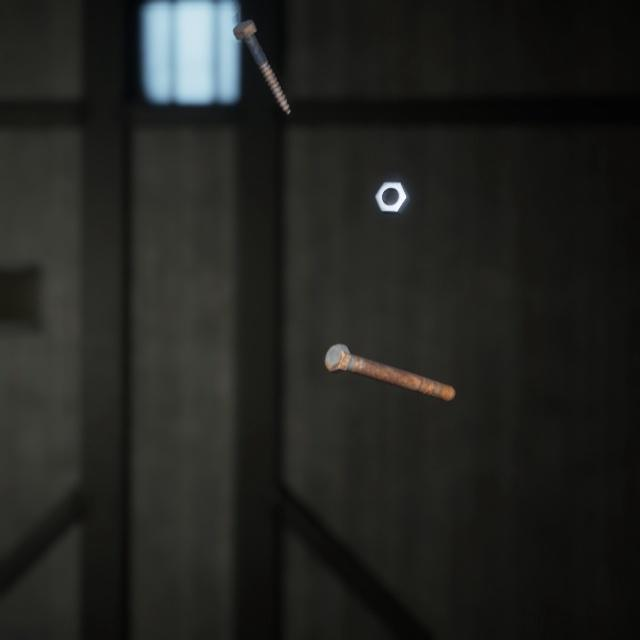bolt: (320, 320, 459, 388), (228, 4, 295, 108)
nut: (370, 163, 415, 204)
